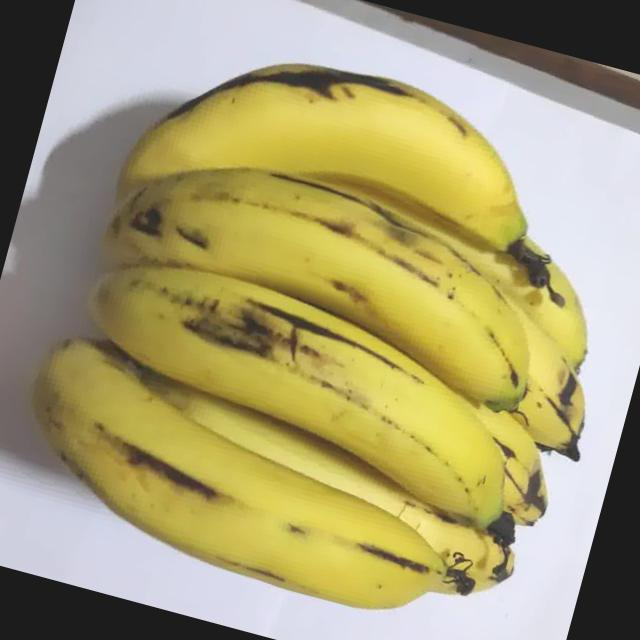banana_pacche: (8, 3, 640, 640)
